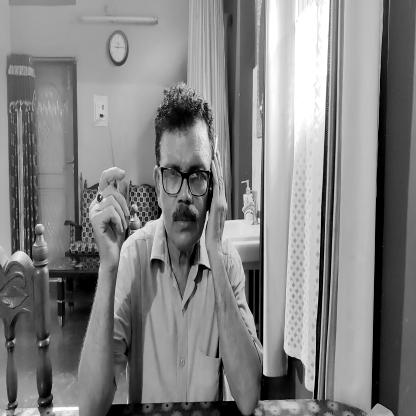Normal: (152, 87, 216, 256)
